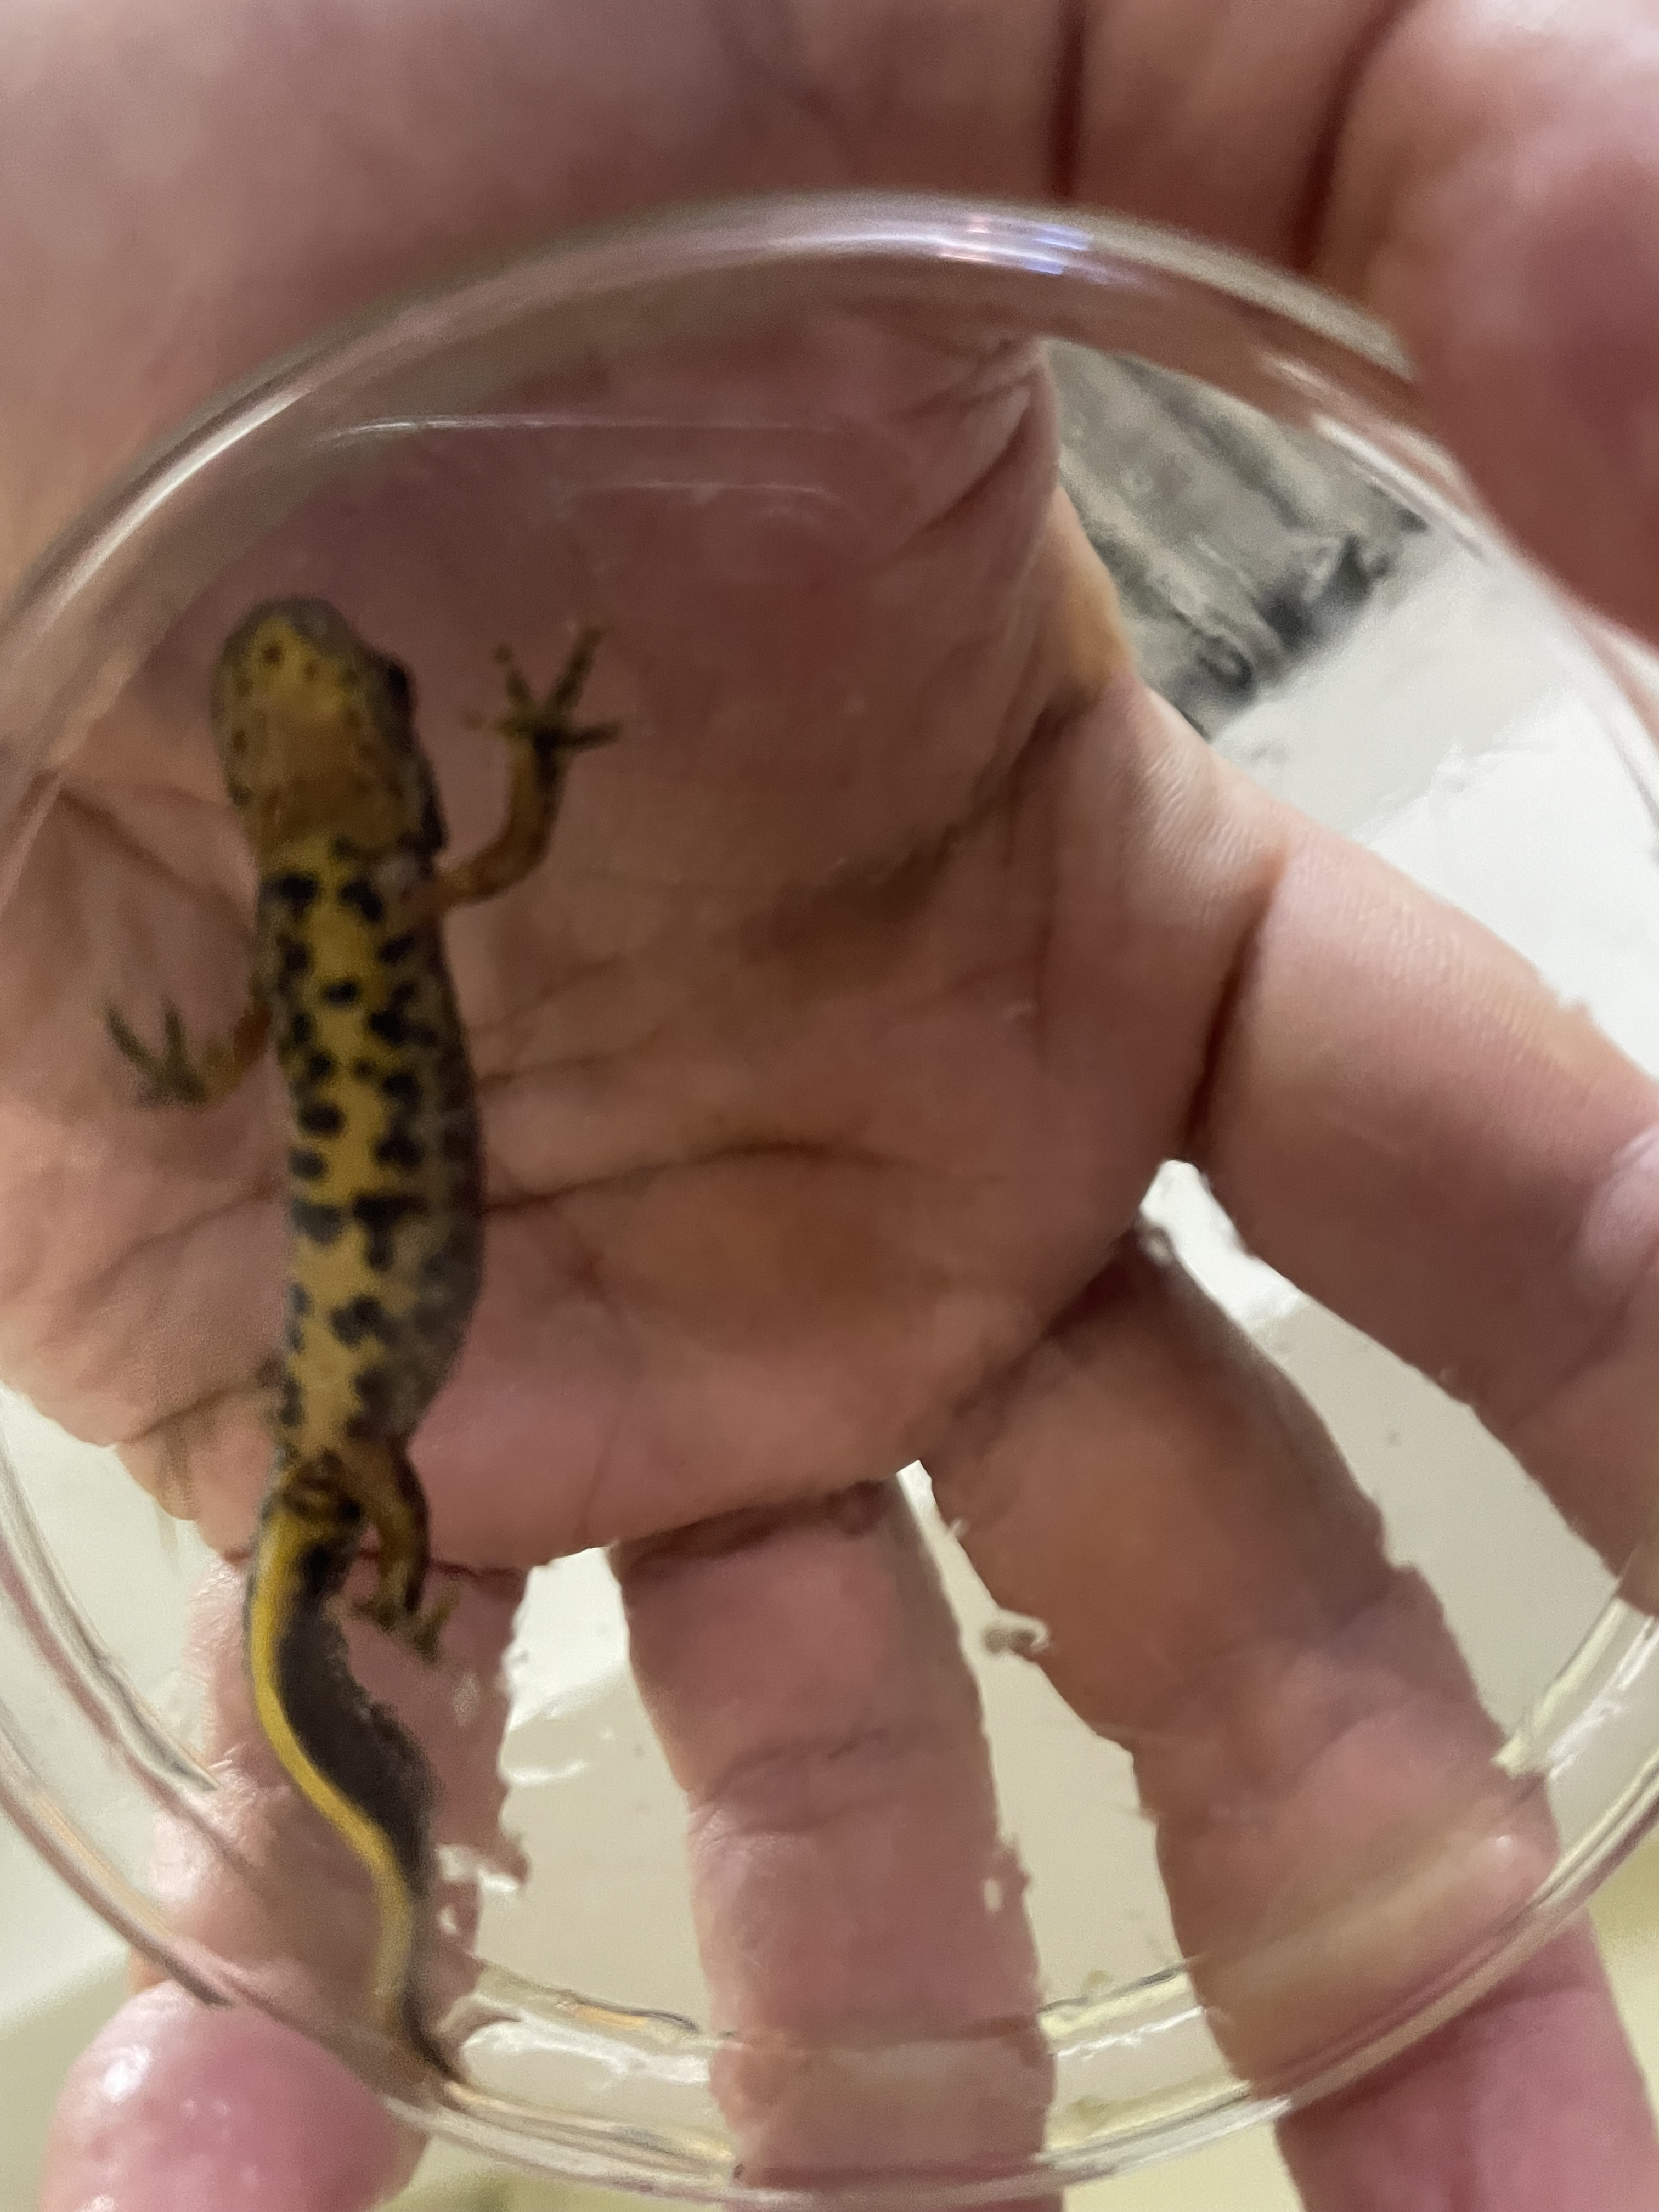Karelin_newt: (270, 914, 484, 1447)
